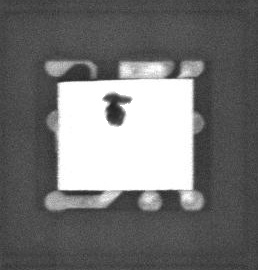DIE_INK: (97, 95, 126, 132)
